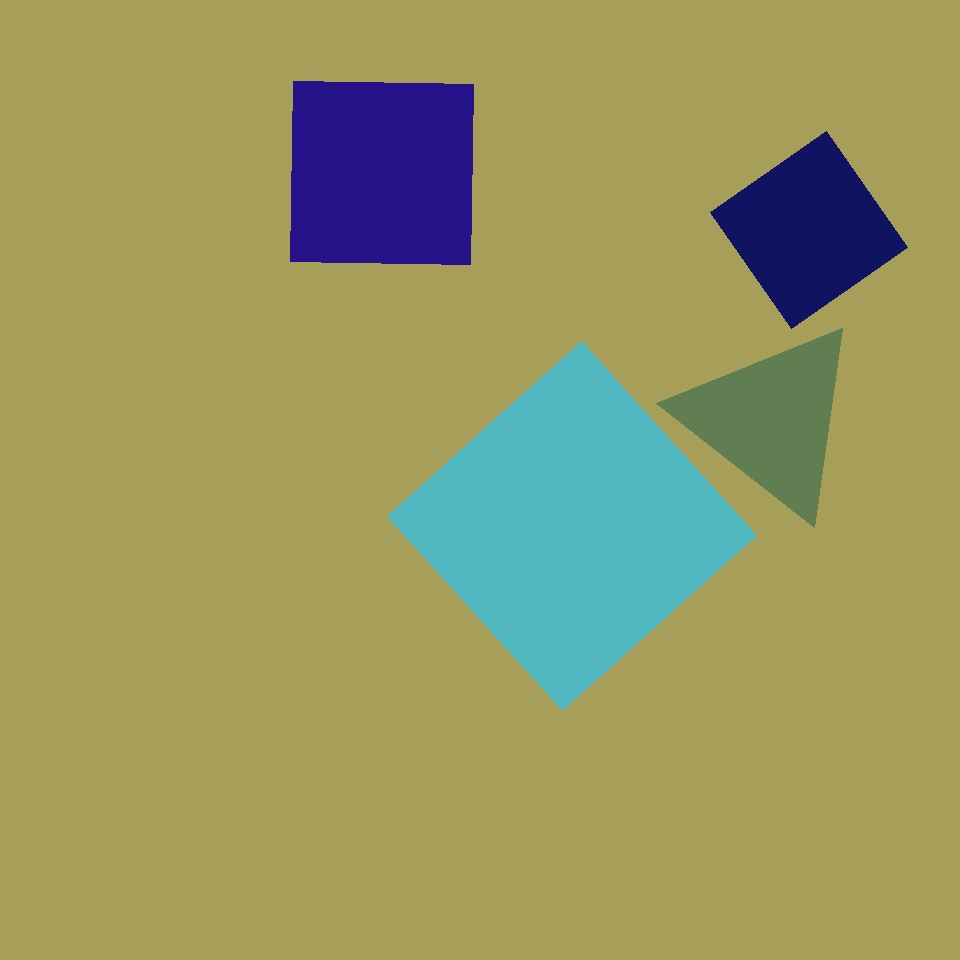circle: (678, 320, 864, 520)
square: (388, 342, 756, 711), (710, 132, 908, 328), (290, 82, 473, 264)
